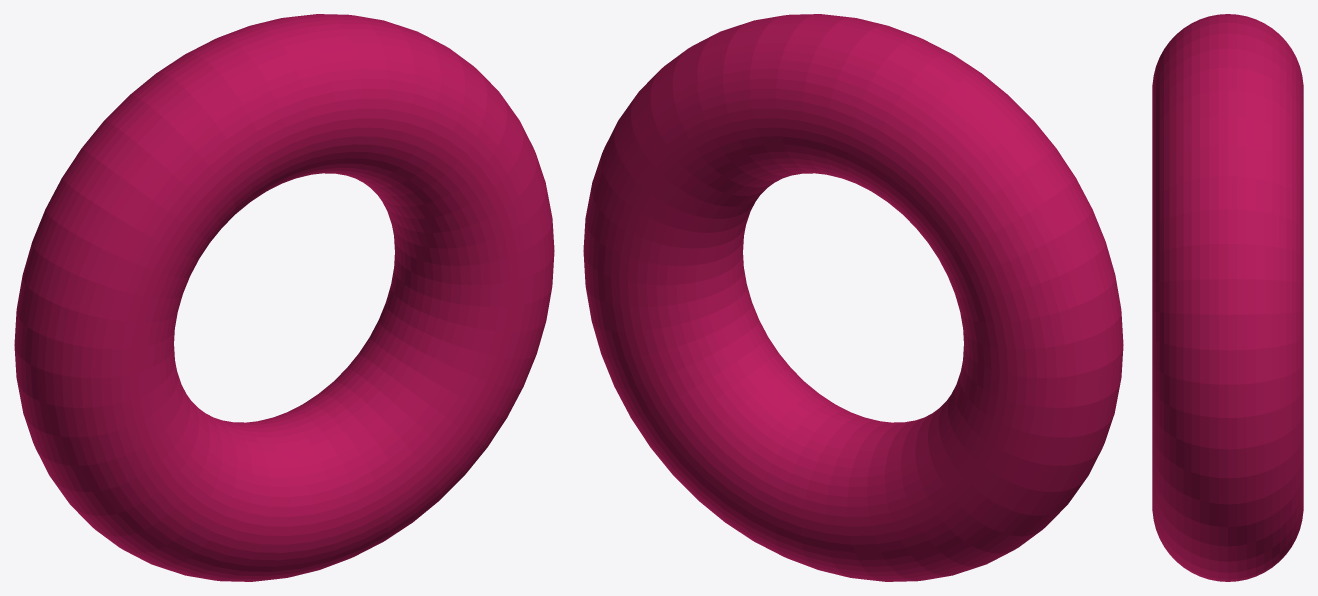
3 renders of one model, left to right at view 1: azimuth 30°, elevation 25°; view 2: azimuth 150°, elevation 25°; view 3: azimuth 270°, elevation 25°, orthographic. The views are drawn at different scales.
Visible parts, largest first — view 1: world; view 2: world; view 3: world.
Boxes of the visible parts, x1,y1,x2,y2 form: world: (14,14,554,581); world: (583,14,1123,581); world: (1152,14,1303,581).
Size of the model in its own units: 34.53 by 34.47 by 9.18.
